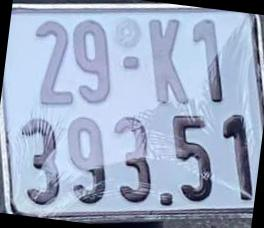-: (123, 54, 142, 69)
.: (160, 190, 175, 205)
1: (193, 15, 225, 103), (222, 115, 254, 201)
2: (35, 18, 74, 104)
3: (21, 118, 59, 203), (116, 117, 152, 203)
5: (172, 112, 213, 203)
9: (65, 116, 106, 207), (72, 19, 110, 103)
K: (150, 15, 188, 106)
